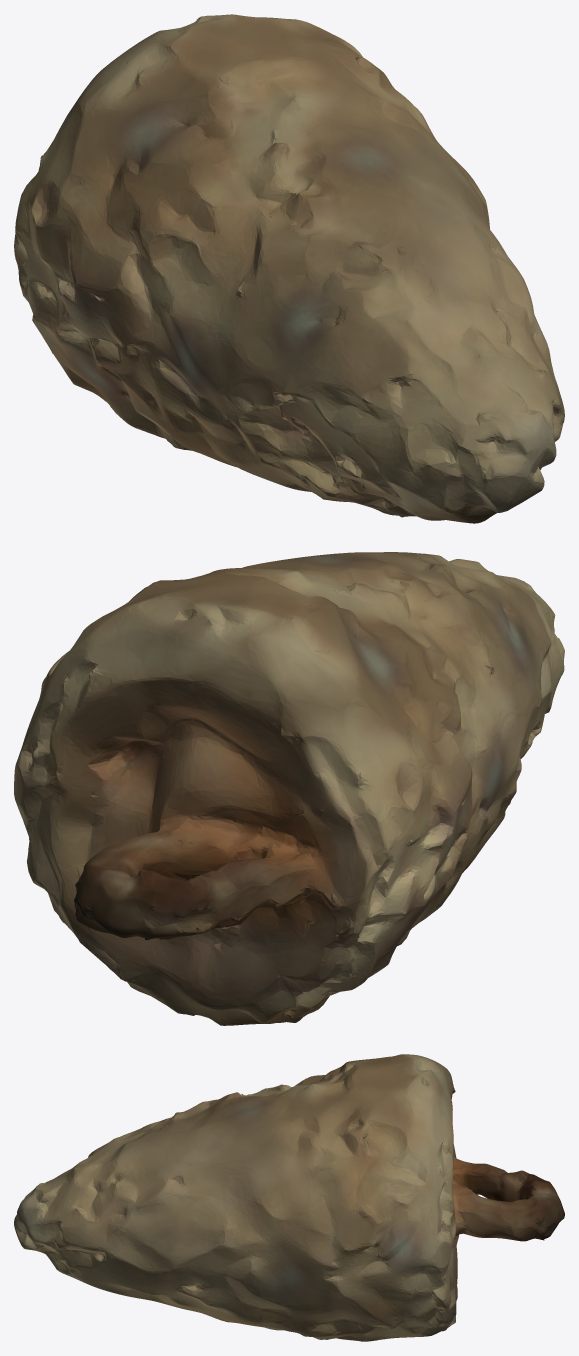
3 renders of one model, top to bottom at view 1: azimuth 30°, elevation 25°; view 2: azimuth 150°, elevation 25°; view 3: azimuth 270°, elevation 25°, orthographic. The views are drawn at different scales.
Visible parts, largest first — view 1: 2018_41_226_1; view 2: 2018_41_226_1; view 3: 2018_41_226_1.
Boxes of the visible parts, x1=… form: 2018_41_226_1: x1=14, y1=14, x2=564, y2=523; 2018_41_226_1: x1=14, y1=552, x2=564, y2=1025; 2018_41_226_1: x1=14, y1=1054, x2=564, y2=1341.
Bounding box in the file's own units: 22.48 × 22.52 × 43.24.
